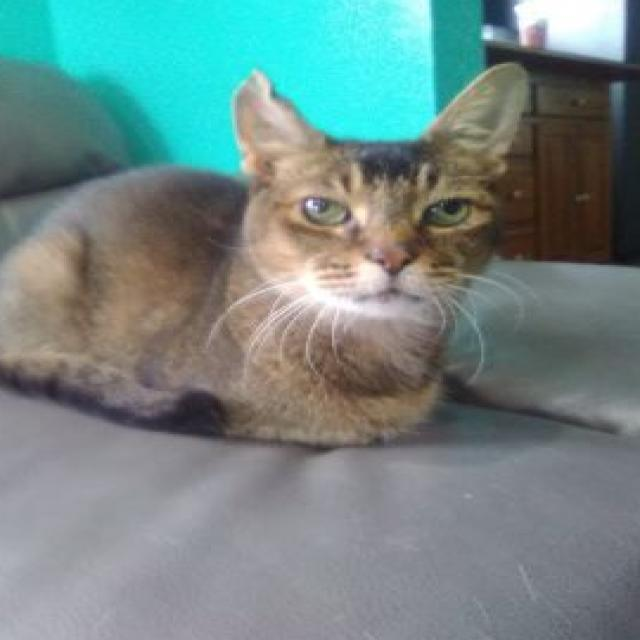Abyssinian: (0, 53, 548, 464)
